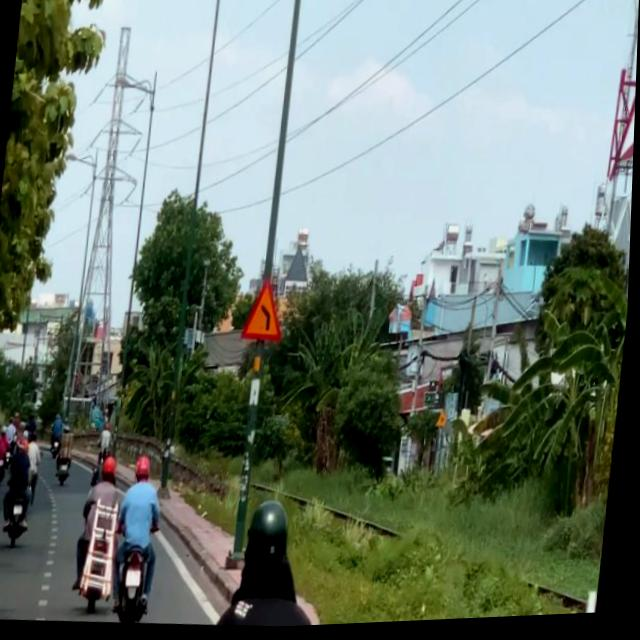cho ngoat nguy hiem vong ben trai: (243, 279, 291, 345)
